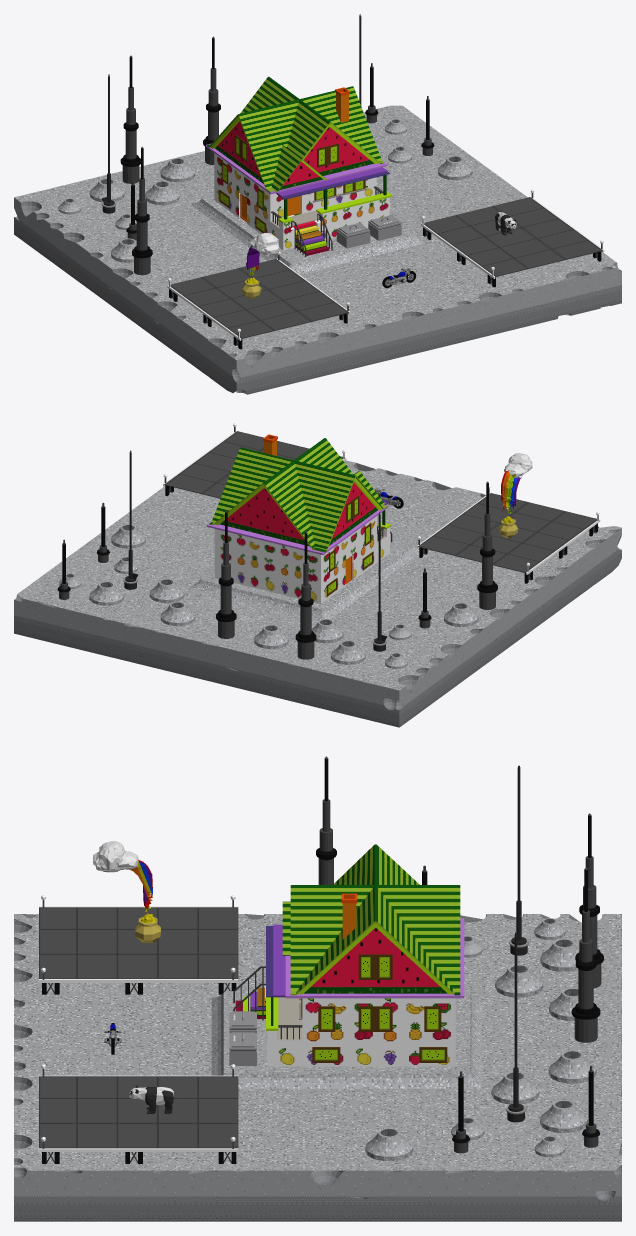
3 renders of one model, top to bottom at view 1: azimuth 30°, elevation 25°; view 2: azimuth 150°, elevation 25°; view 3: azimuth 270°, elevation 25°, orthographic. The views are drawn at different scales.
Visible parts, largest first — view 1: Cube.027, Cube.1063, Cube.026, Cube.025, Cube.028, Cylinder.020, Cylinder.021, OBJRANDOM_RAINBOW, Cylinder.017, Cube.029, Cube.030, Cylinder.027 (+3 smaller); view 2: Cube.027, Cube.1063, Cube.025, Cube.028, Cube.026, OBJRANDOM_RAINBOW, Cylinder.020, Cylinder.021, Cylinder.017, Cylinder.031, Cylinder.028, Cylinder.029 (+7 smaller); view 3: Cube.027, Cube.1063, Cube.025, Cube.026, Cube.028, Cylinder.017, OBJRANDOM_RAINBOW, Cylinder.020, Cylinder.021, Cylinder.033, Cylinder.031, Cylinder.029 (+10 smaller).
Part boxes in pixels (x1,y1,x2,y2): Cube.027: (14,105,621,394); Cube.1063: (205,76,392,256); Cube.026: (421,189,604,287); Cube.025: (167,252,350,349); Cube.028: (191,195,424,274); Cylinder.020: (120,55,140,183); Cylinder.021: (132,146,152,275); OBJRANDOM_RAINBOW: (242,233,279,299); Cylinder.017: (203,36,220,164); Cube.029: (336,222,370,248); Cube.030: (368,215,401,240); Cylinder.027: (160,158,195,182); Cube.027: (14,460,621,727); Cube.1063: (206,434,392,603); Cube.025: (417,485,600,583); Cube.028: (190,538,419,620); Cube.026: (163,423,346,498); OBJRANDOM_RAINBOW: (499,453,532,538); Cylinder.020: (295,531,316,659); Cylinder.021: (477,481,497,609); Cylinder.017: (216,510,236,638); Cylinder.031: (89,581,124,605); Cylinder.028: (331,640,365,664); Cylinder.029: (160,601,195,626); Cube.027: (14,914,621,1221); Cube.1063: (233,844,464,1066); Cube.025: (39,895,238,994); Cube.026: (39,1064,238,1163); Cube.028: (211,991,481,1088); Cylinder.017: (571,867,600,1042); OBJRANDOM_RAINBOW: (93,841,160,942); Cylinder.020: (575,813,603,988); Cylinder.021: (316,756,336,884); Cylinder.033: (365,1128,413,1160); Cylinder.031: (540,1100,587,1132); Cylinder.029: (548,1050,596,1083).
Size of the model in its own units: 4000 by 1815 by 4000.
Materials: 34 (6 with a texture image).
